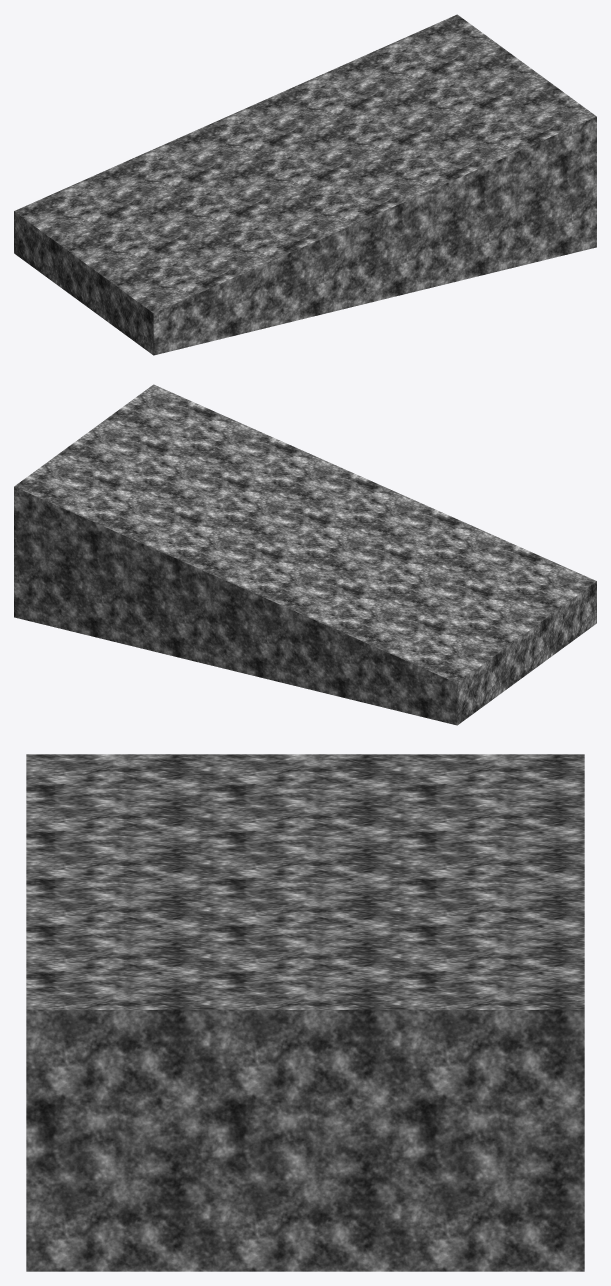
File: SM_ramp_01.fbx
The picture shows the model from 3 angles, top to bottom: view 1: azimuth 30°, elevation 25°; view 2: azimuth 150°, elevation 25°; view 3: azimuth 270°, elevation 25°; orthographic projection. The views are drawn at different scales.
Visible parts, largest first — view 1: SM_ramp_01_LOD0; view 2: SM_ramp_01_LOD0; view 3: SM_ramp_01_LOD0.
Boxes of the visible parts, x1,y1,x2,y2 form: SM_ramp_01_LOD0: [14, 14, 596, 355]; SM_ramp_01_LOD0: [14, 384, 596, 725]; SM_ramp_01_LOD0: [26, 754, 584, 1271].
Bounding box in the file's own units: 1100 × 600 × 310.
